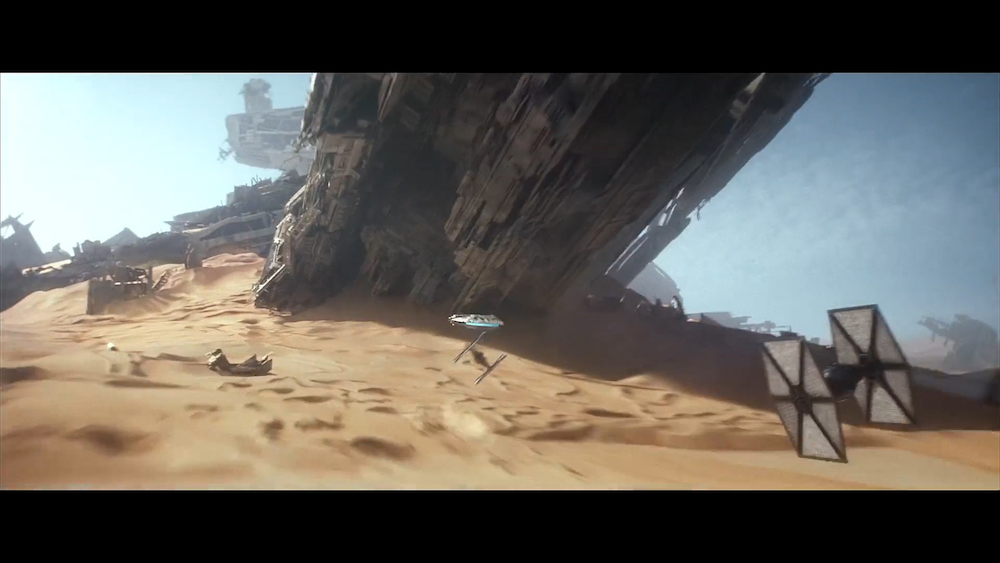Millennium Falcon: (448, 314, 504, 331)
Tie Fighter: (757, 303, 922, 466), (453, 332, 508, 387)
